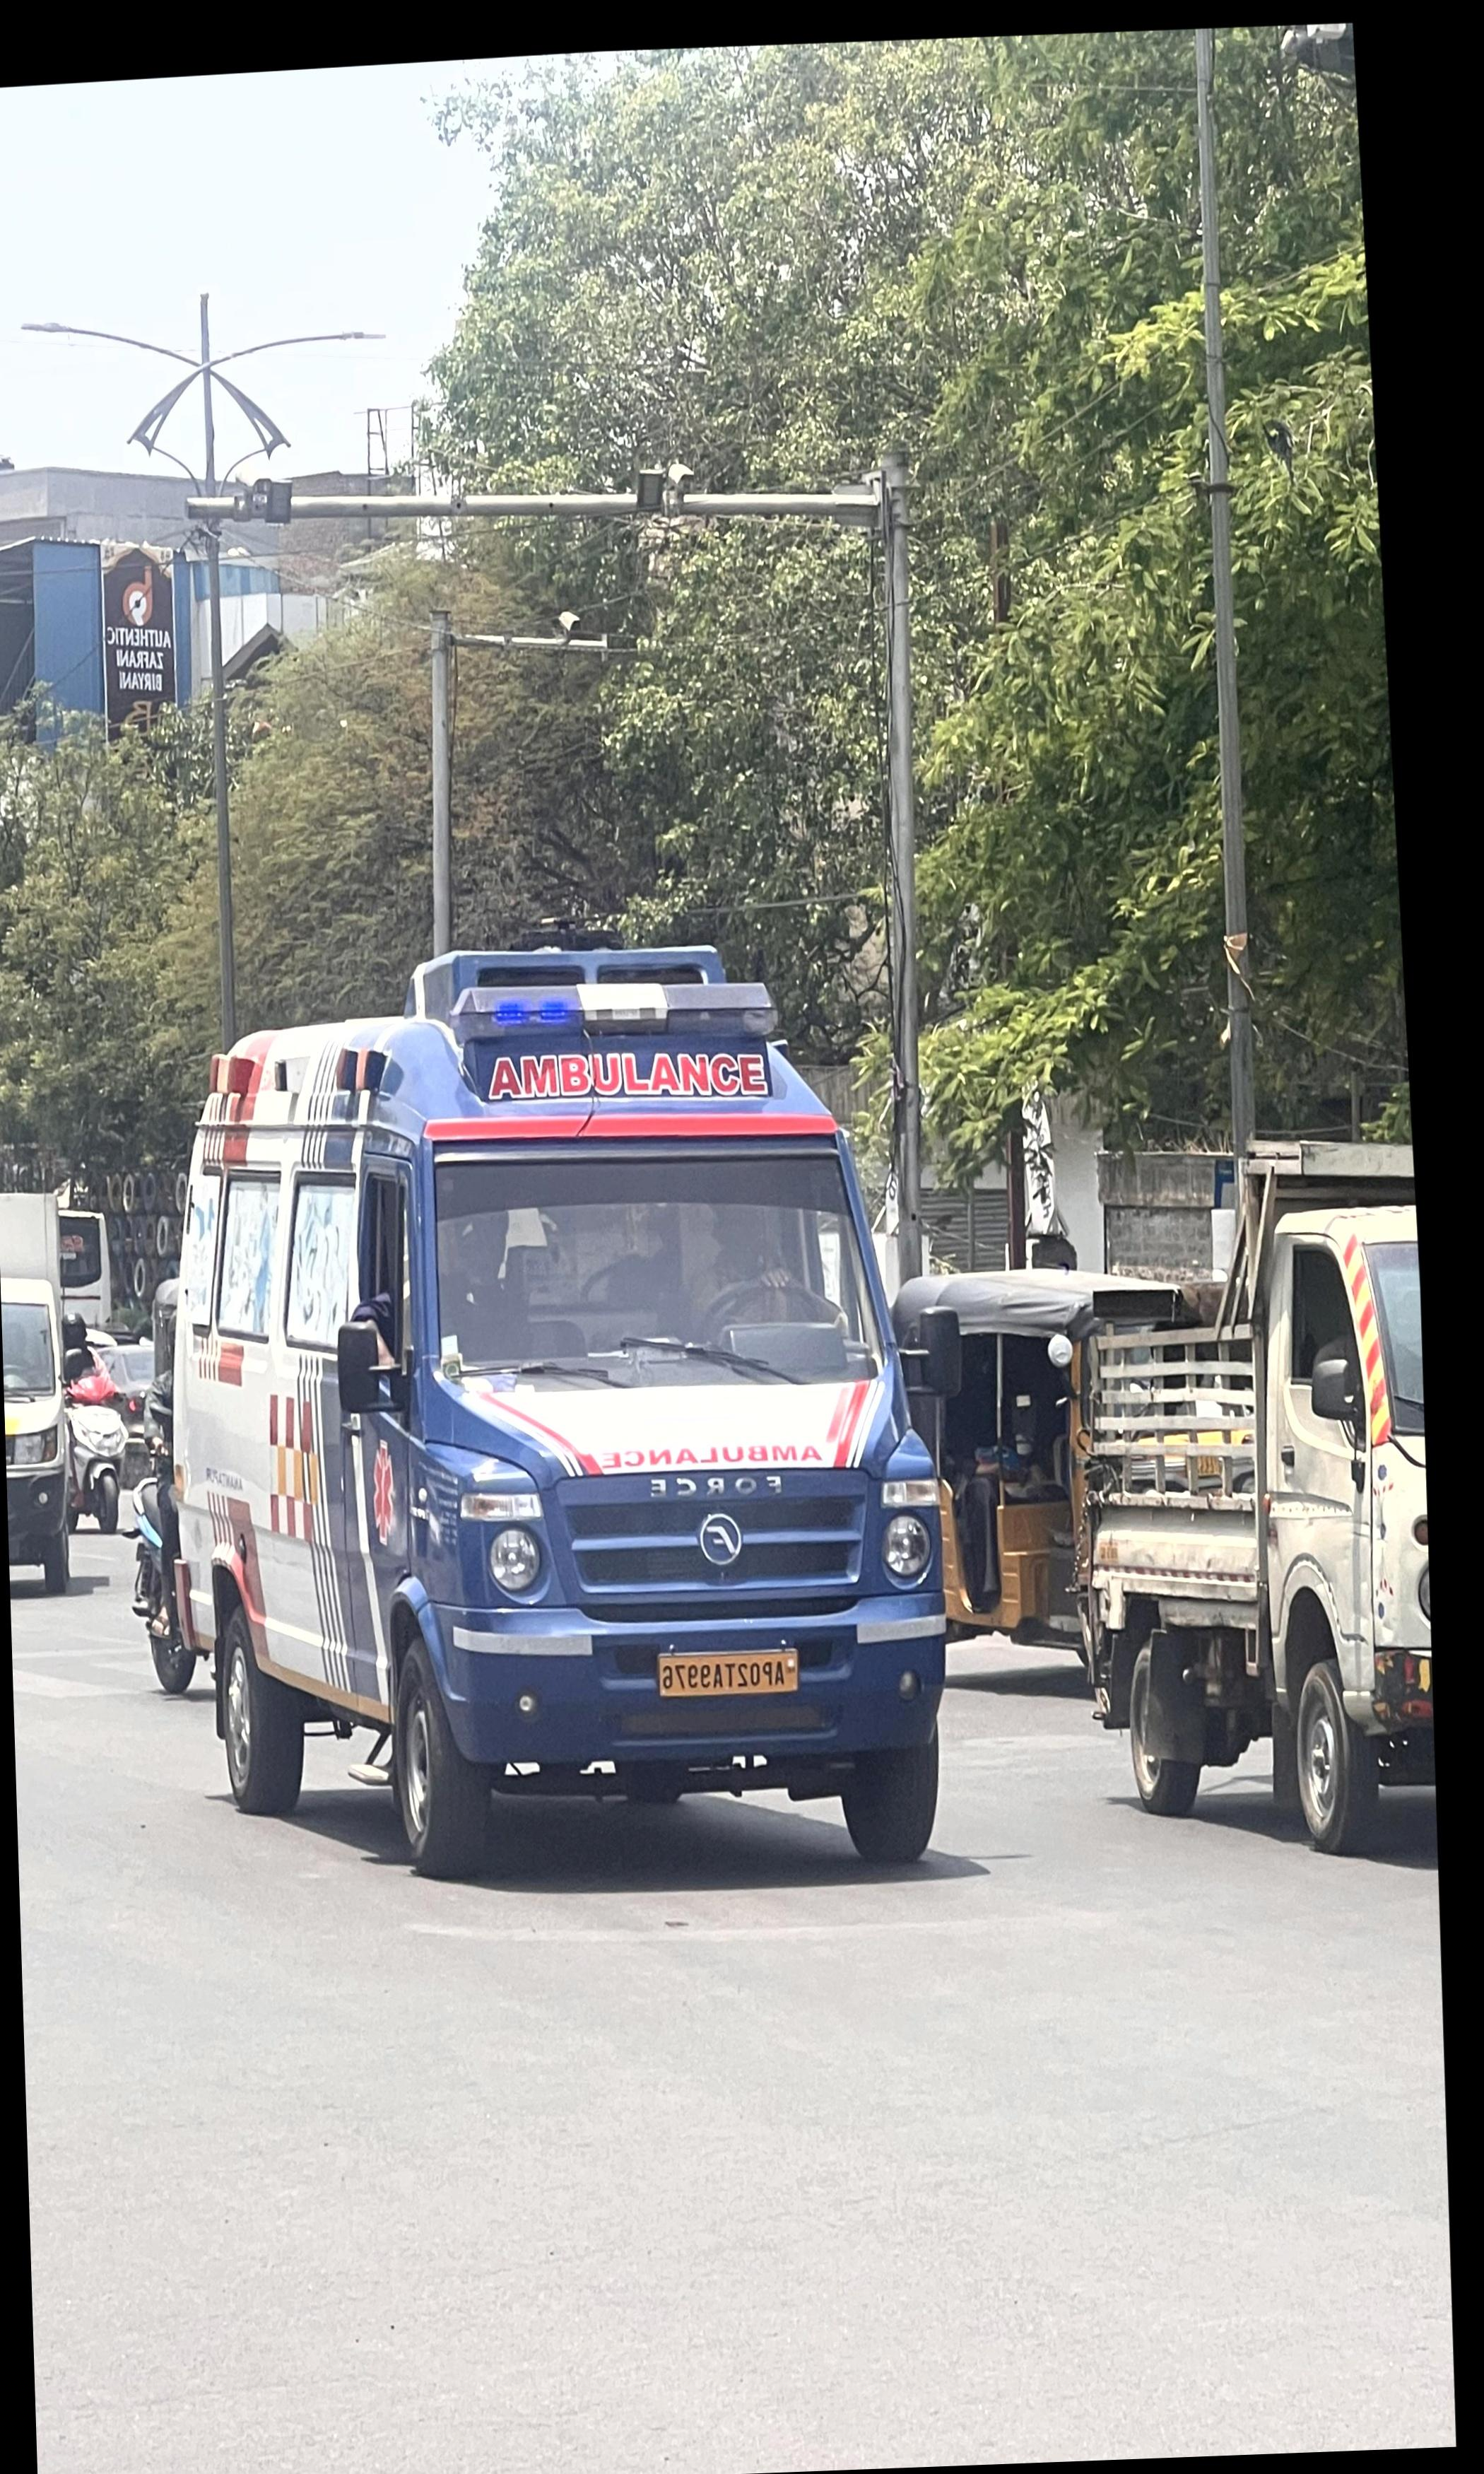ambulance: (148, 954, 949, 1880)
